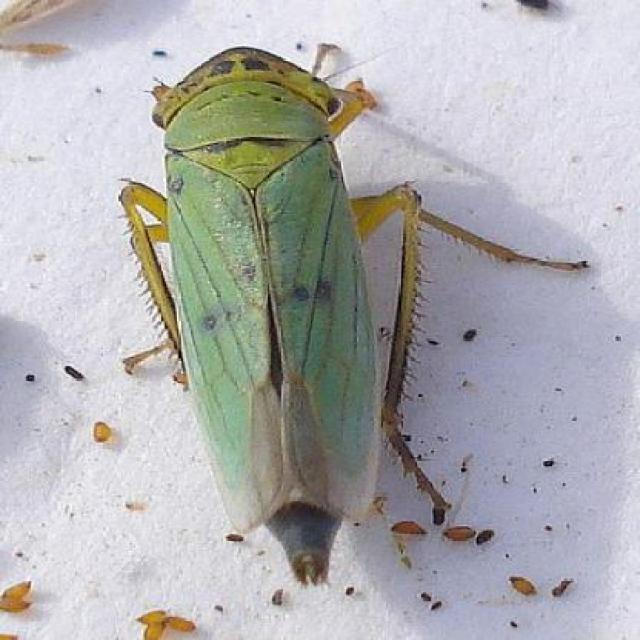green-leafhopper: (113, 38, 594, 586)
